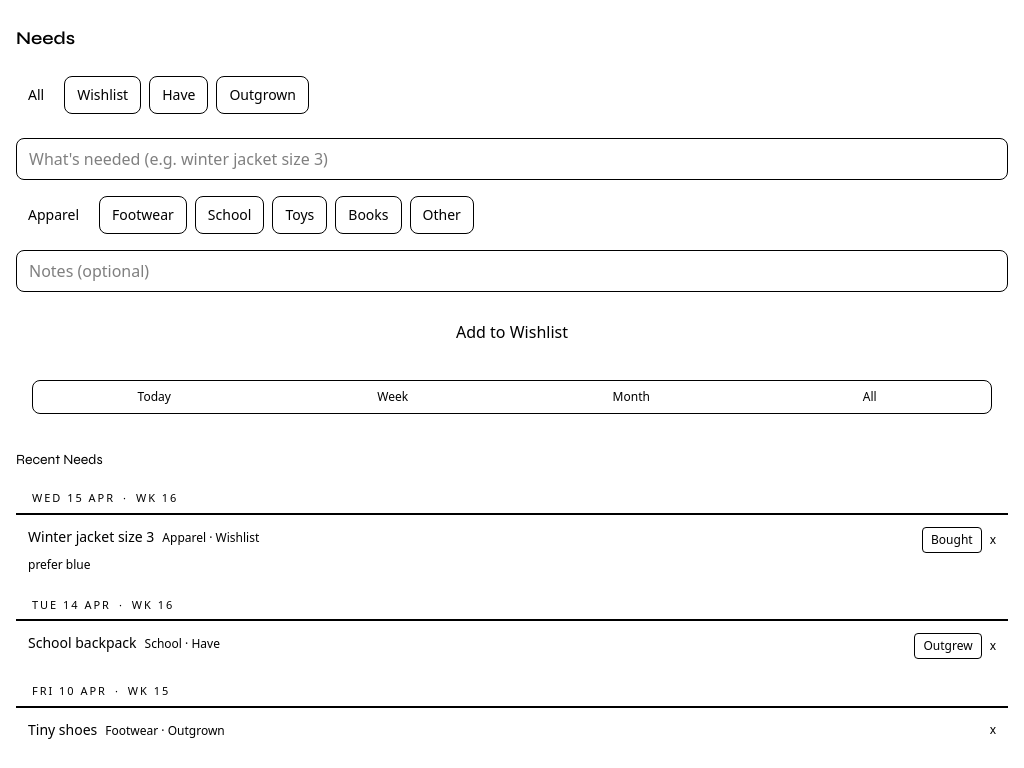
Test: NeedsLog — filter chips › filters to Have entries only
This screenshot has width=1024, height=768.
What coordinates should you click on to do the following:
click the button "Have"
I would click on:
 (179, 95)
Its box is [149,76,208,114].
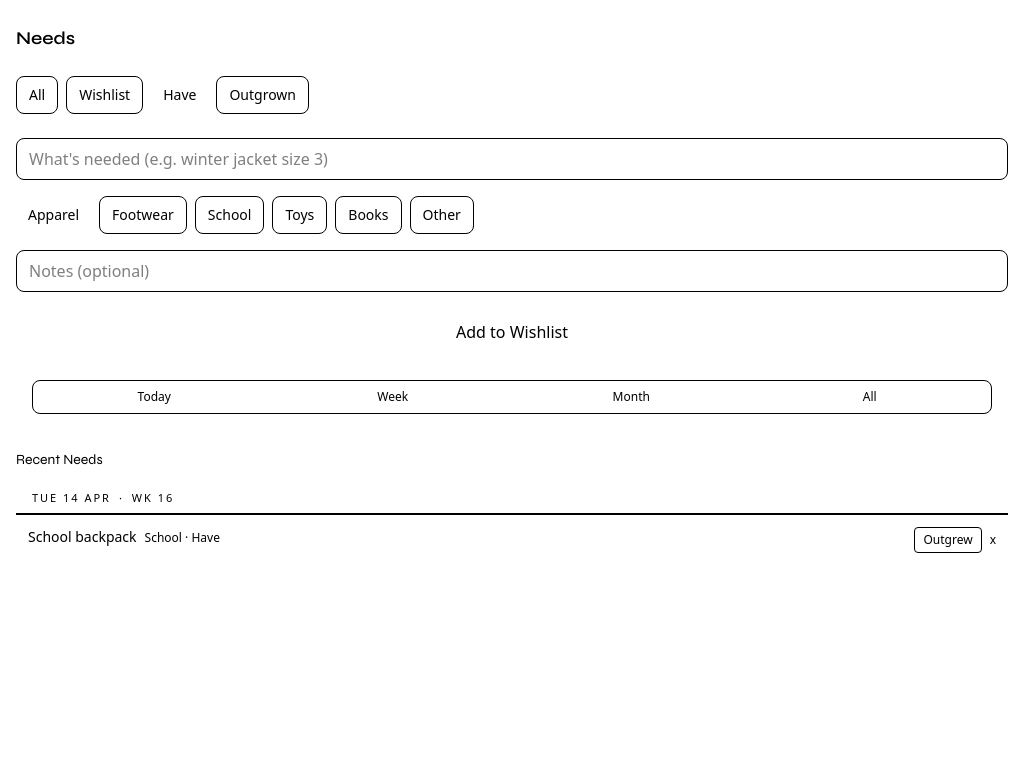
Expected: the text "School backpack" is shown, [28,526,137,546]
Now the button "Tiny shoes" is gone
